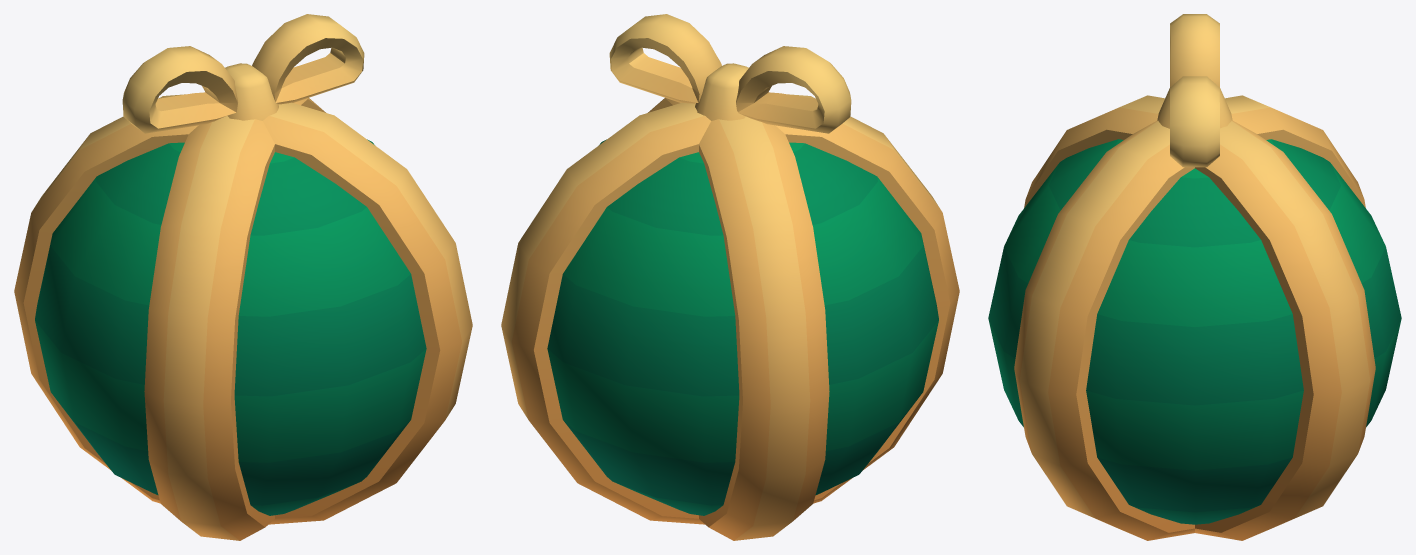
Rendered from present_sphere_B_green.fbx.
3 views of the same model, side by side, from view 1: azimuth 30°, elevation 25°; view 2: azimuth 150°, elevation 25°; view 3: azimuth 270°, elevation 25° (orthographic).
Visible parts, largest first — view 1: present_sphere_B_green; view 2: present_sphere_B_green; view 3: present_sphere_B_green.
Boxes of the visible parts, left/top/right/bottom form: present_sphere_B_green: left=14, top=14, right=472, bottom=540; present_sphere_B_green: left=501, top=14, right=959, bottom=540; present_sphere_B_green: left=988, top=14, right=1401, bottom=540.
Size of the model in its own units: 0.7933 by 1 by 0.7933.
